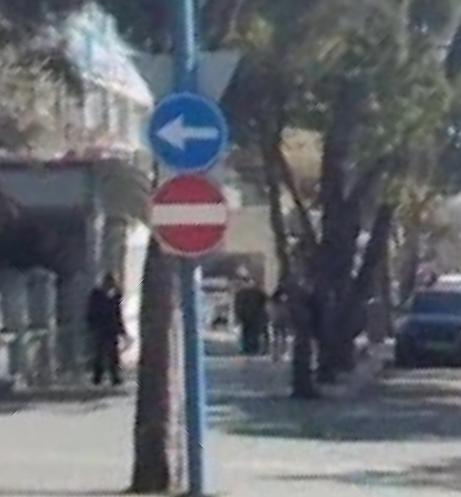turnleft: (145, 93, 231, 170)
